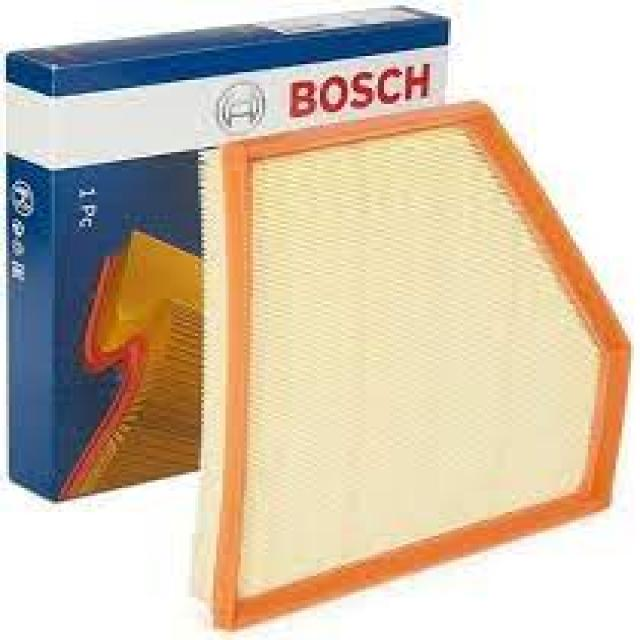air_filter: (201, 89, 640, 637)
